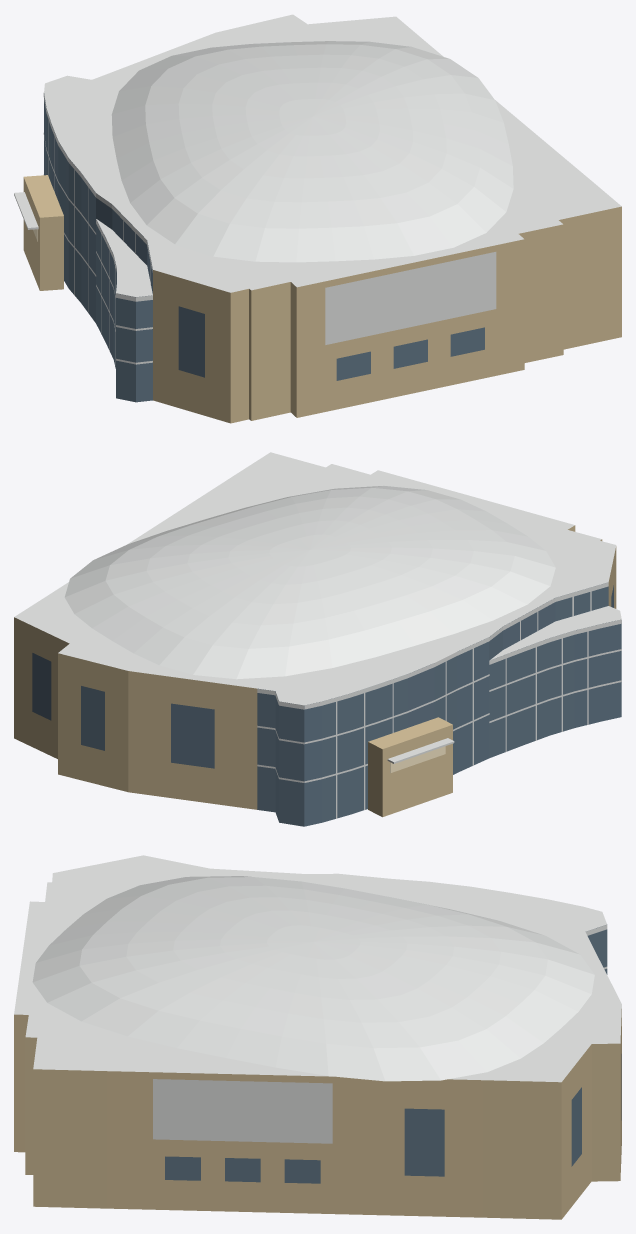
The model's file is pit-ppg-paints-arena.glb.
3 views of the same model, one above another, from view 1: azimuth 30°, elevation 25°; view 2: azimuth 150°, elevation 25°; view 3: azimuth 270°, elevation 25° (orthographic). The views are drawn at different scales.
Visible parts, largest first — view 1: PPG Paints Arena; view 2: PPG Paints Arena; view 3: PPG Paints Arena.
Part boxes in pixels (box(x1,y1,x2,y2)): PPG Paints Arena: box(14, 14, 621, 423); PPG Paints Arena: box(14, 452, 621, 826); PPG Paints Arena: box(14, 855, 621, 1219).
Bounding box in the file's own units: 154 × 52.05 × 164.
